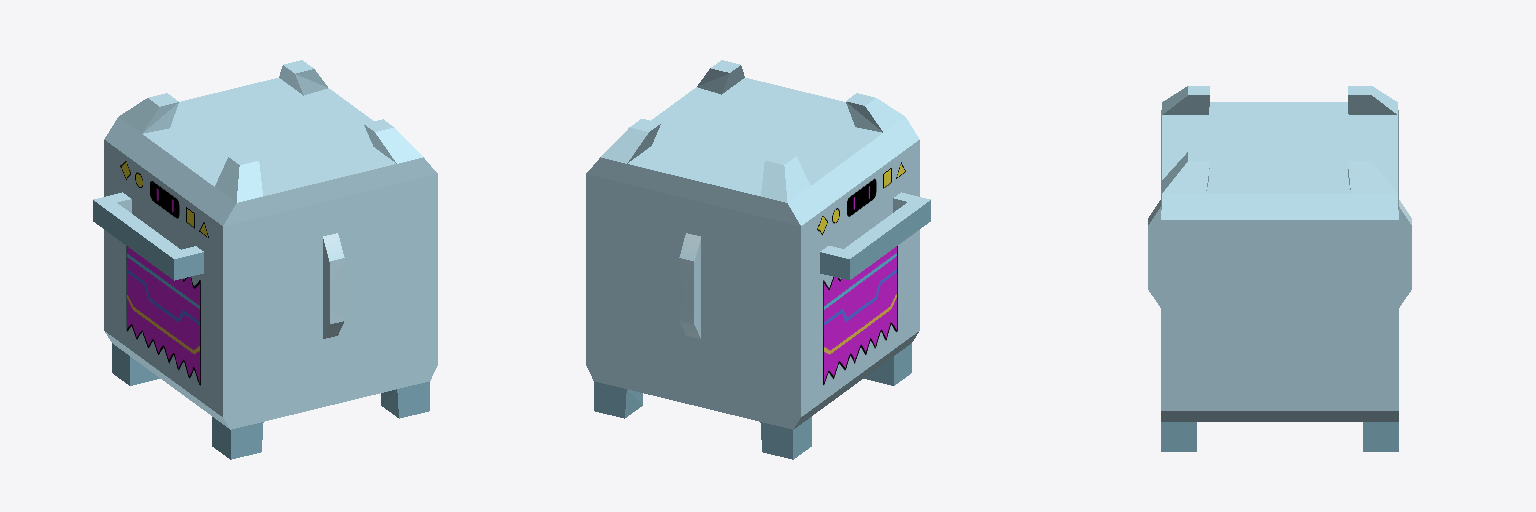
The picture shows the model from 3 angles: view 1: azimuth 30°, elevation 25°; view 2: azimuth 150°, elevation 25°; view 3: azimuth 270°, elevation 25°; orthographic projection.
Visible parts, largest first — view 1: pCube1_initialShadingGroup, pCube2_initialShadingGroup, pCube3_initialShadingGroup; view 2: pCube1_initialShadingGroup, pCube2_initialShadingGroup, pCube4_initialShadingGroup; view 3: pCube1_initialShadingGroup, pCube3_initialShadingGroup, pCube4_initialShadingGroup.
Part boxes in pixels (left/top/right/bottom): pCube1_initialShadingGroup: left=104, top=60, right=437, bottom=459; pCube2_initialShadingGroup: left=93, top=192, right=203, bottom=280; pCube3_initialShadingGroup: left=323, top=233, right=344, bottom=338; pCube1_initialShadingGroup: left=586, top=60, right=919, bottom=459; pCube2_initialShadingGroup: left=820, top=192, right=930, bottom=280; pCube4_initialShadingGroup: left=679, top=233, right=700, bottom=338; pCube1_initialShadingGroup: left=1161, top=86, right=1398, bottom=451; pCube3_initialShadingGroup: left=1148, top=200, right=1160, bottom=307; pCube4_initialShadingGroup: left=1399, top=200, right=1411, bottom=307.
Size of the model in its own units: 1.33 by 1.45 by 1.24.
Materials: 1 (1 with a texture image).